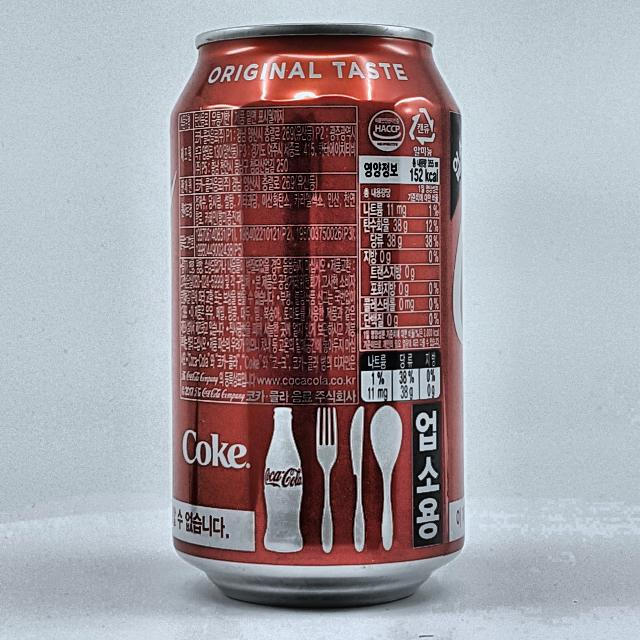cocacola: (171, 24, 465, 608)
